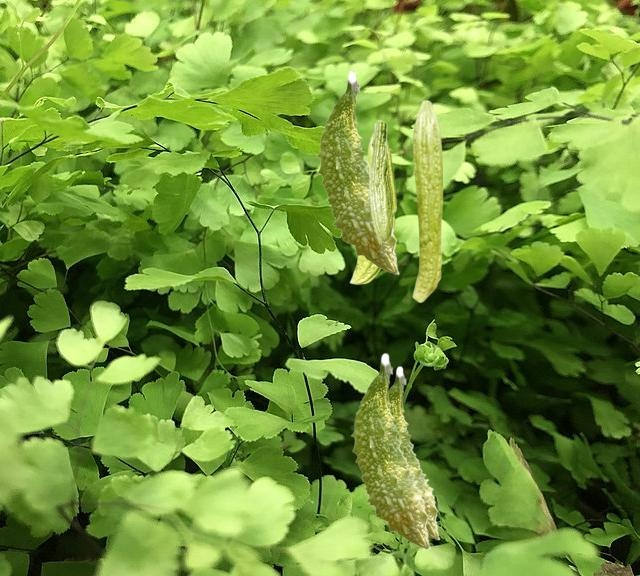ampalaya: (315, 70, 399, 275), (350, 352, 431, 550), (389, 365, 440, 540), (349, 122, 397, 285), (412, 99, 443, 303), (368, 120, 393, 243)
